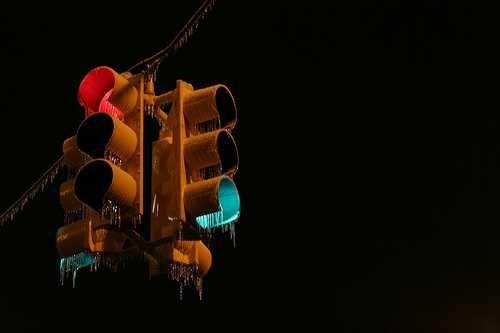green: (183, 75, 245, 235), (187, 177, 240, 239)
red: (81, 65, 145, 217), (82, 63, 134, 120)
